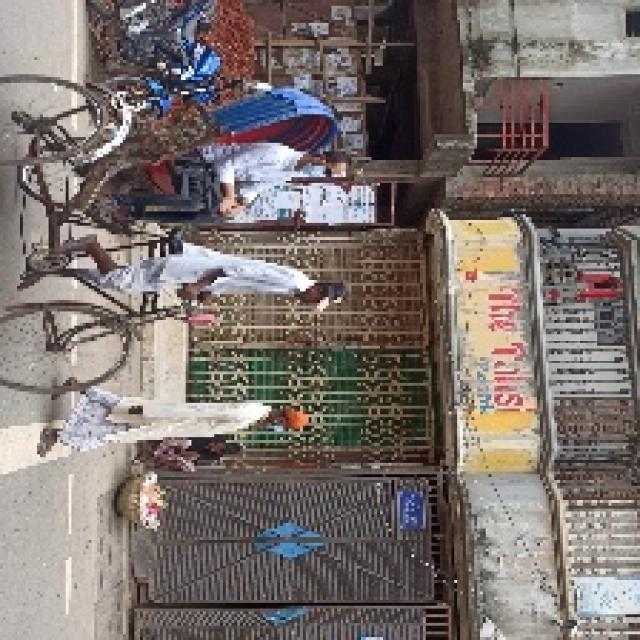bike: (96, 2, 258, 114)
rickshaw: (15, 73, 346, 397)
